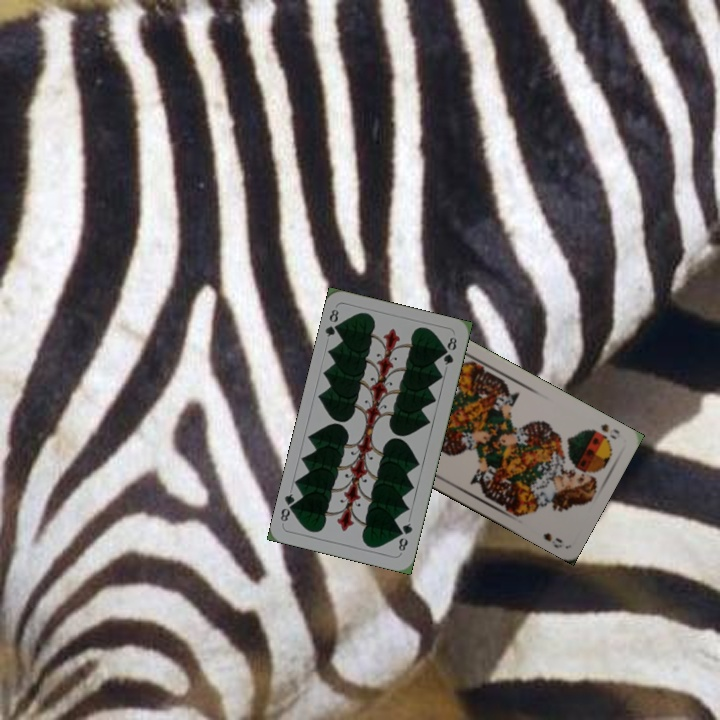G8: (394, 519, 415, 556), (321, 305, 343, 340)
SO: (597, 420, 622, 442)
